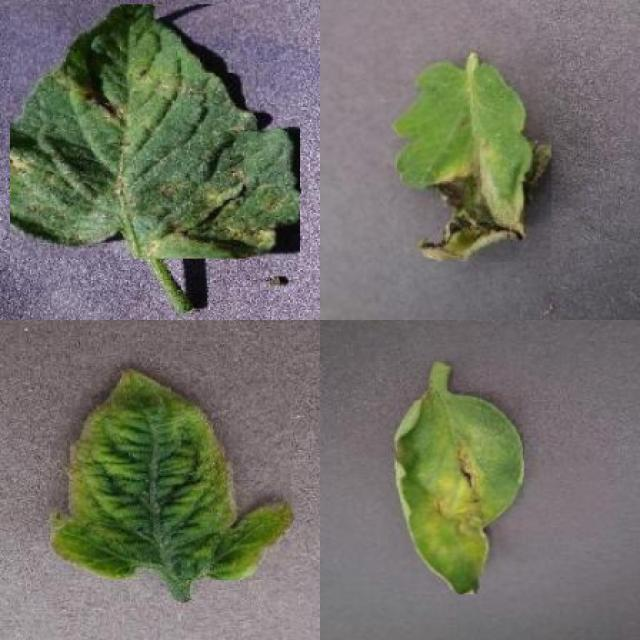Late Blight: (397, 59, 552, 262), (393, 392, 524, 595)
Septoria: (10, 5, 300, 259)
Yellow Leaf Curl Virus: (52, 368, 294, 580)
